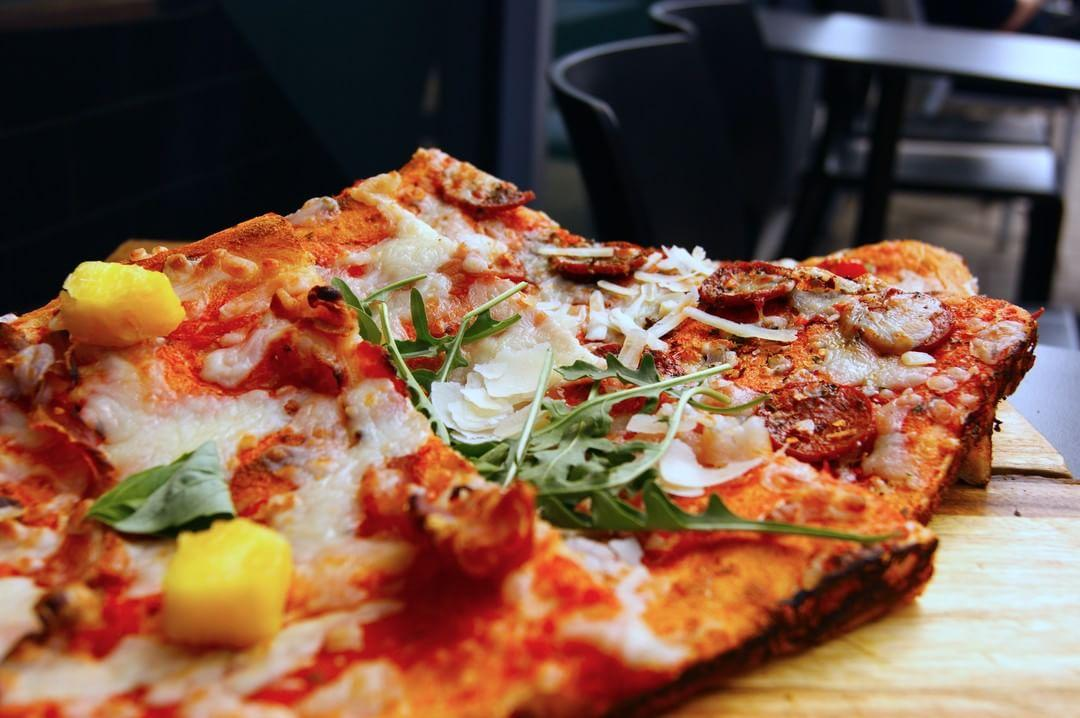Arugula: (535, 412, 708, 534), (88, 440, 236, 533)
Pizza: (0, 146, 1035, 718)
Tomatoes: (409, 439, 534, 576), (760, 382, 876, 457), (849, 294, 956, 350), (435, 161, 535, 215), (549, 229, 643, 278), (700, 260, 798, 305)
